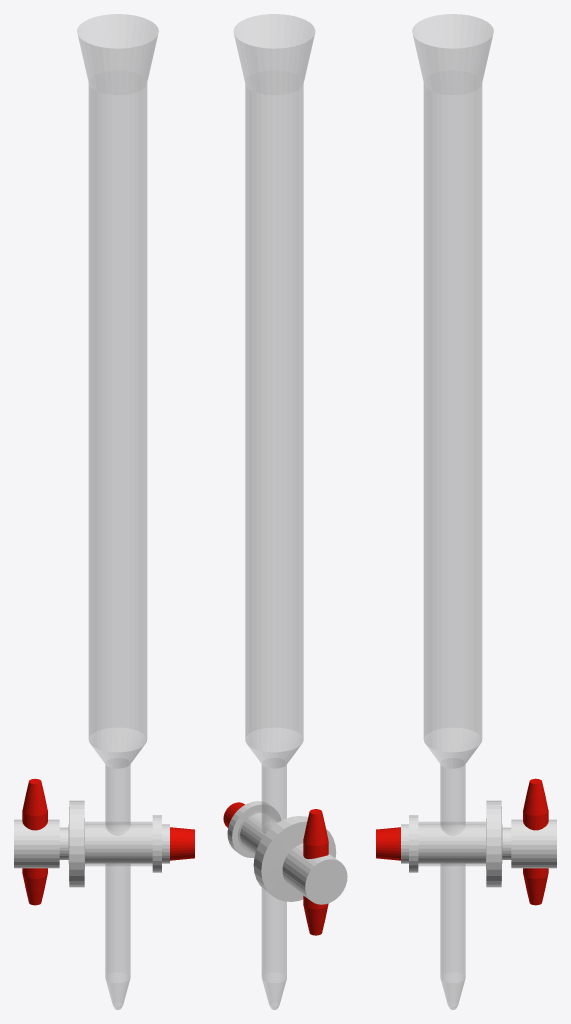
Rendered from Bureta.fbx.
3 renders of one model, left to right at view 1: azimuth 90°, elevation 25°; view 2: azimuth 210°, elevation 25°; view 3: azimuth 270°, elevation 25°, orthographic.
Visible parts, largest first — view 1: Cylinder; view 2: Cylinder; view 3: Cylinder.
Boxes of the visible parts, x1,y1,x2,y2 form: Cylinder: (14, 14, 194, 1009); Cylinder: (223, 14, 347, 1009); Cylinder: (376, 14, 556, 1009).
Size of the model in its own units: 5.48 by 68.37 by 11.46.
